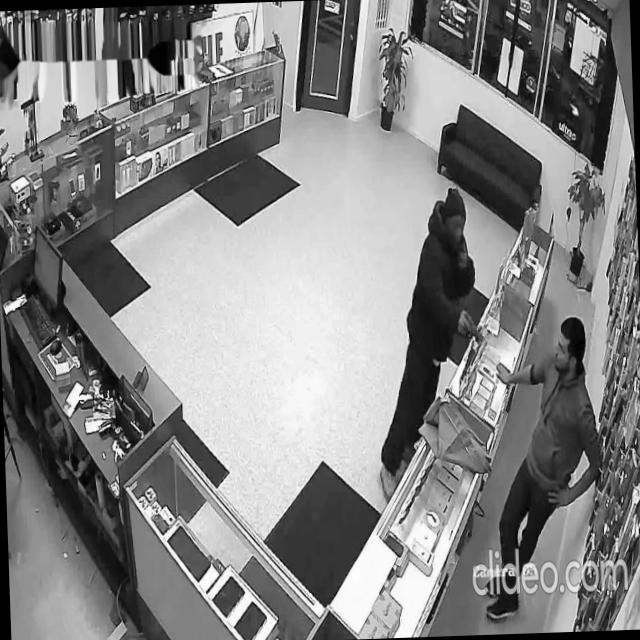gun: (467, 315, 482, 344)
person: (474, 314, 608, 623)
person with a gun: (370, 184, 488, 504)
